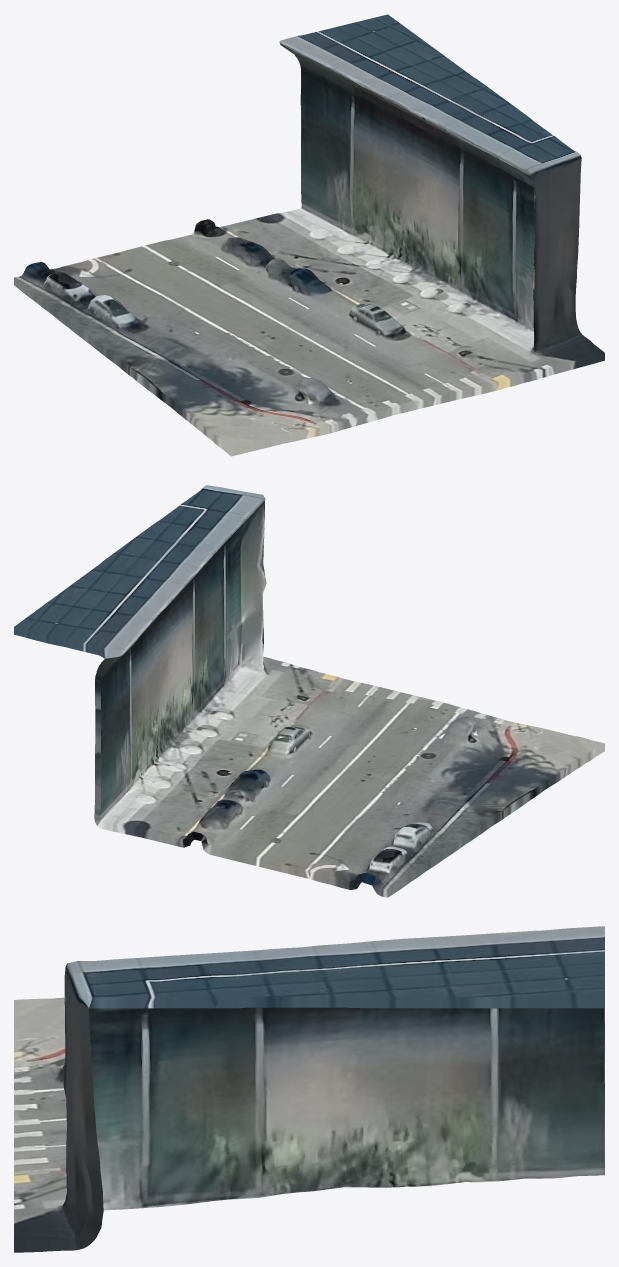
File: z20-167751-405246-h0-yup-uvflip-v3-world.glb
3 renders of one model, top to bottom at view 1: azimuth 30°, elevation 25°; view 2: azimuth 150°, elevation 25°; view 3: azimuth 270°, elevation 25°, orthographic. The views are drawn at different scales.
Size of the model in its own units: 30.16 by 14.96 by 30.32.
1 material, 1 textured.
